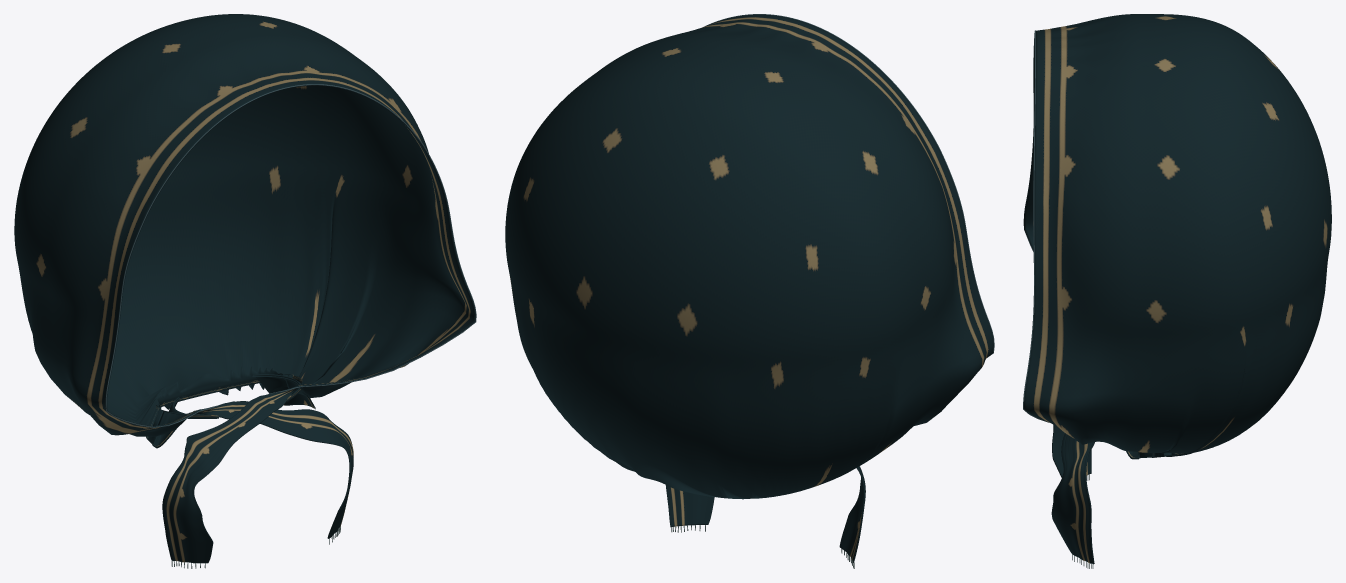
Rendered from Feminine-twin-braids-tank-pashmina250-headgear.glb.
3 views of the same model, side by side, from view 1: azimuth 30°, elevation 25°; view 2: azimuth 150°, elevation 25°; view 3: azimuth 270°, elevation 25° (orthographic). The views are drawn at different scales.
Visible parts, largest first — view 1: 226 headgear / Headwear / continuous woven pashmina239, 226 headgear / Headwear / face edge239; view 2: 226 headgear / Headwear / continuous woven pashmina239, 226 headgear / Headwear / face edge239; view 3: 226 headgear / Headwear / continuous woven pashmina239, 226 headgear / Headwear / face edge239.
Boxes of the visible parts, x1,y1,x2,y2 form: 226 headgear / Headwear / continuous woven pashmina239: [14, 14, 475, 563]; 226 headgear / Headwear / face edge239: [105, 84, 476, 427]; 226 headgear / Headwear / continuous woven pashmina239: [505, 14, 993, 562]; 226 headgear / Headwear / face edge239: [704, 14, 994, 357]; 226 headgear / Headwear / continuous woven pashmina239: [1023, 14, 1331, 564]; 226 headgear / Headwear / face edge239: [1023, 30, 1049, 422].
Bounding box in the file's own units: 1.11 × 1.38 × 0.778.
3 materials, 1 textured.
